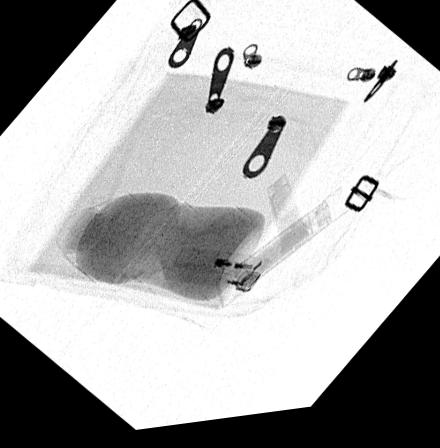Lighter: (163, 250, 270, 299)
